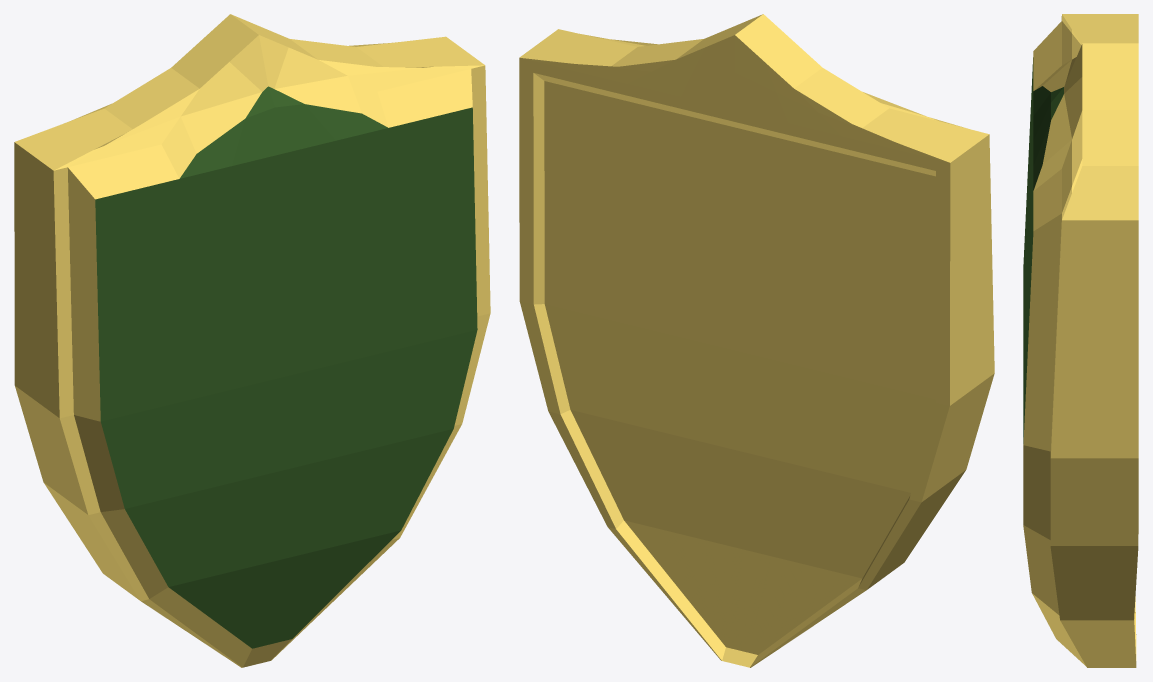
Rendered from shieldRF.glb.
The picture shows the model from 3 angles, left to right: view 1: azimuth 30°, elevation 25°; view 2: azimuth 150°, elevation 25°; view 3: azimuth 270°, elevation 25°; orthographic projection. The views are drawn at different scales.
Parts seen in each view (by area): view 1: shield; view 2: shield; view 3: shield.
Part boxes in pixels (box(x1,y1,x2,y2)): shield: box(14, 14, 490, 667); shield: box(519, 14, 994, 667); shield: box(1023, 14, 1138, 667).
Bounding box in the file's own units: 3.23 × 4.51 × 0.766.
